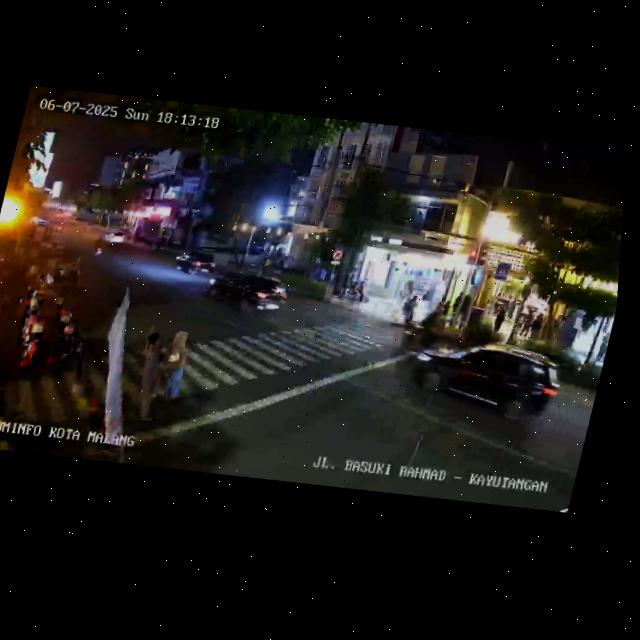car: (394, 323, 569, 433), (202, 262, 293, 323), (171, 242, 221, 278), (100, 226, 127, 248)
motorcycle: (90, 235, 108, 261)
person: (154, 326, 198, 405), (127, 326, 166, 414), (455, 290, 474, 326), (490, 300, 508, 333), (401, 293, 419, 325), (527, 309, 545, 341), (516, 306, 533, 339), (596, 331, 611, 362)
